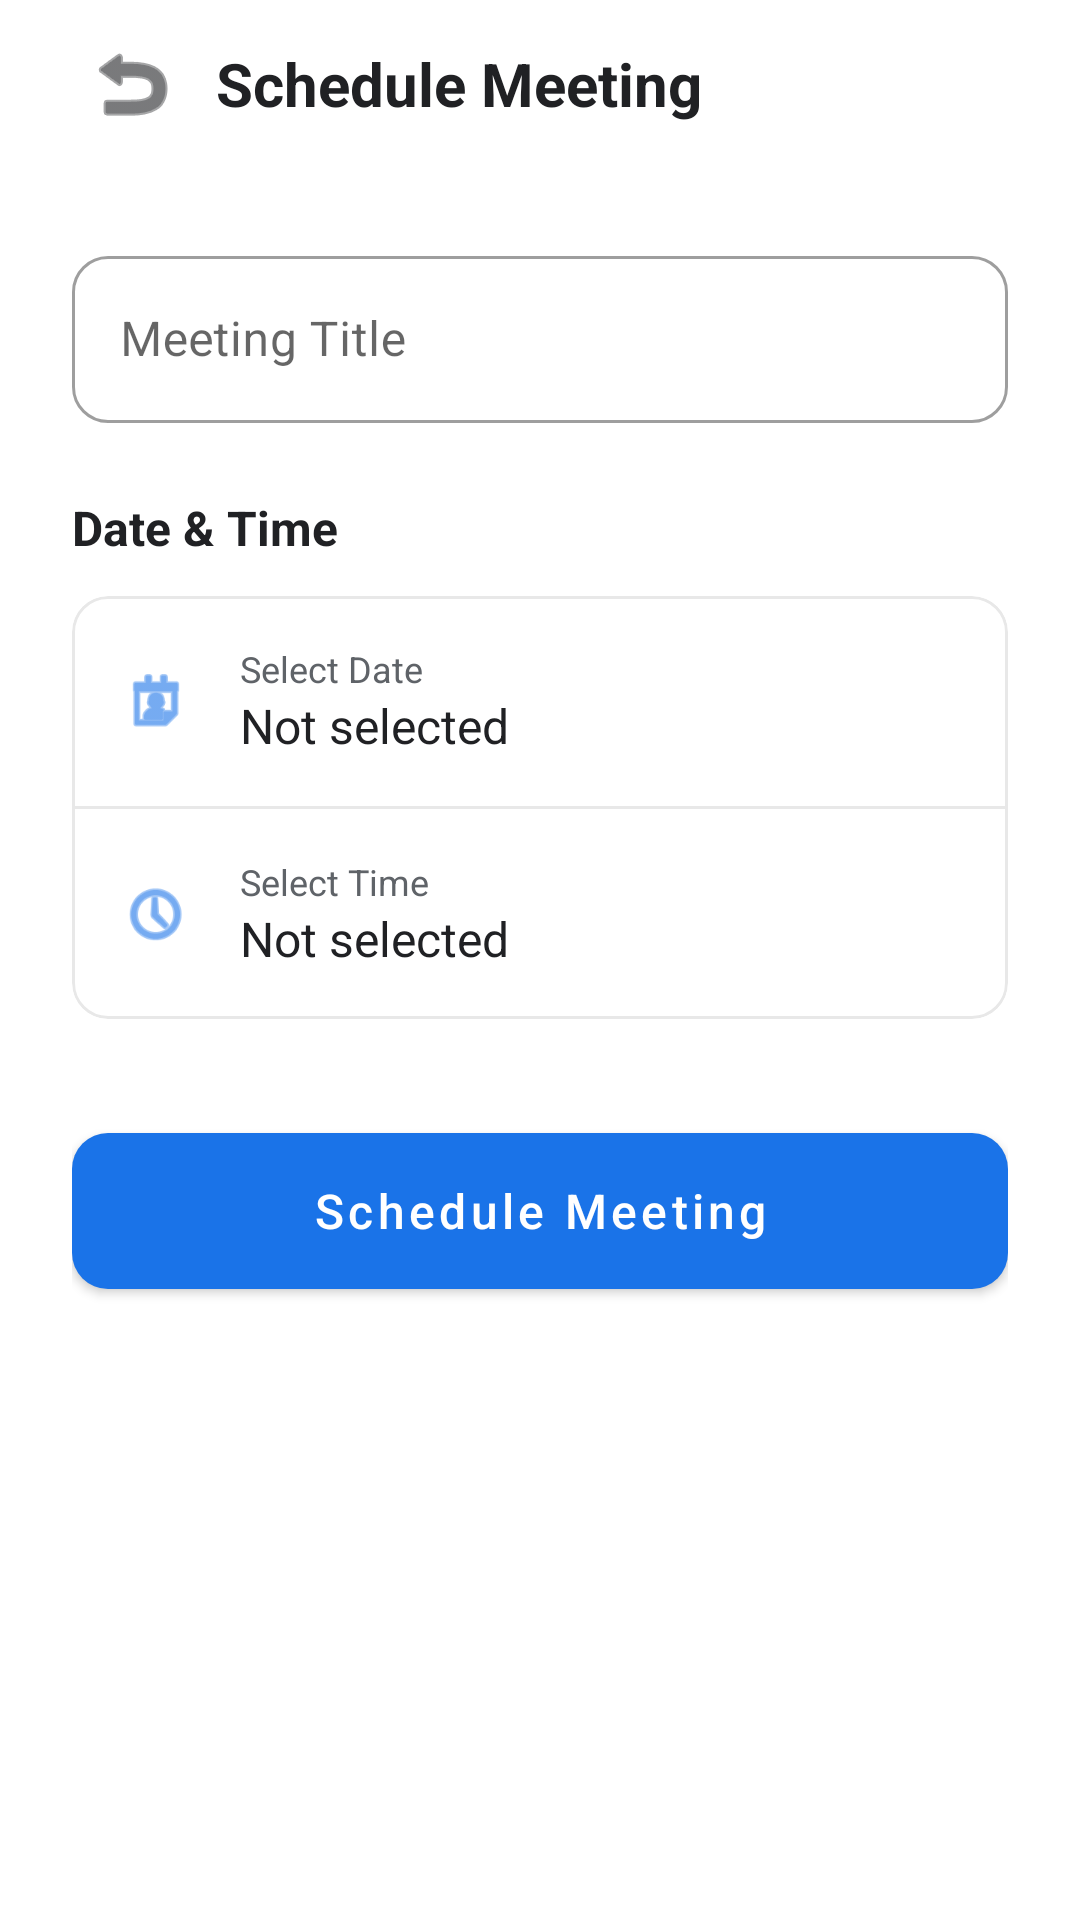

Screen size 1080×1920. Icon name, then its box in pixels as detection(x1, y1, x2, y2):
calendar: detection(133, 674, 179, 727)
recent history: detection(130, 888, 182, 940)
revert: detection(99, 53, 168, 116)
